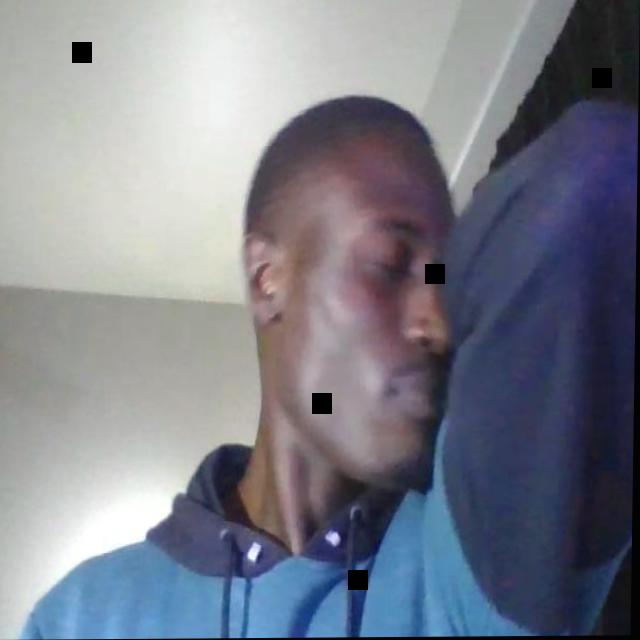NO-Mask: (273, 181, 453, 497)
